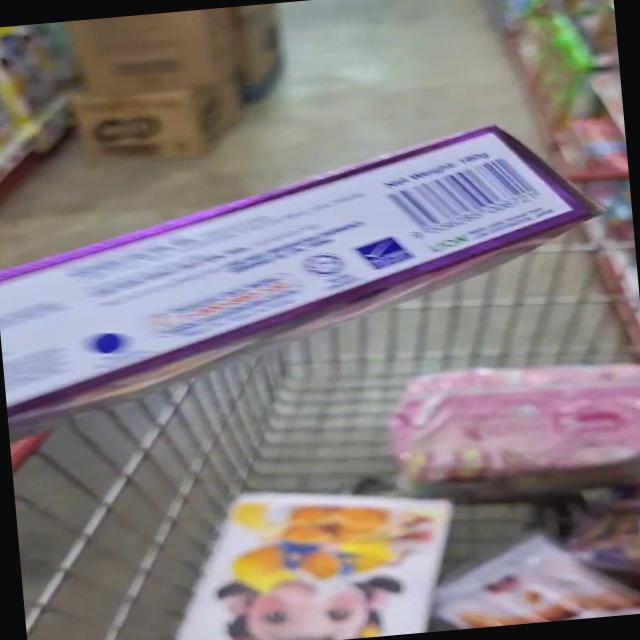Tisu: (173, 459, 474, 640)
Ubat Gigi: (193, 110, 618, 308), (0, 223, 327, 401)
